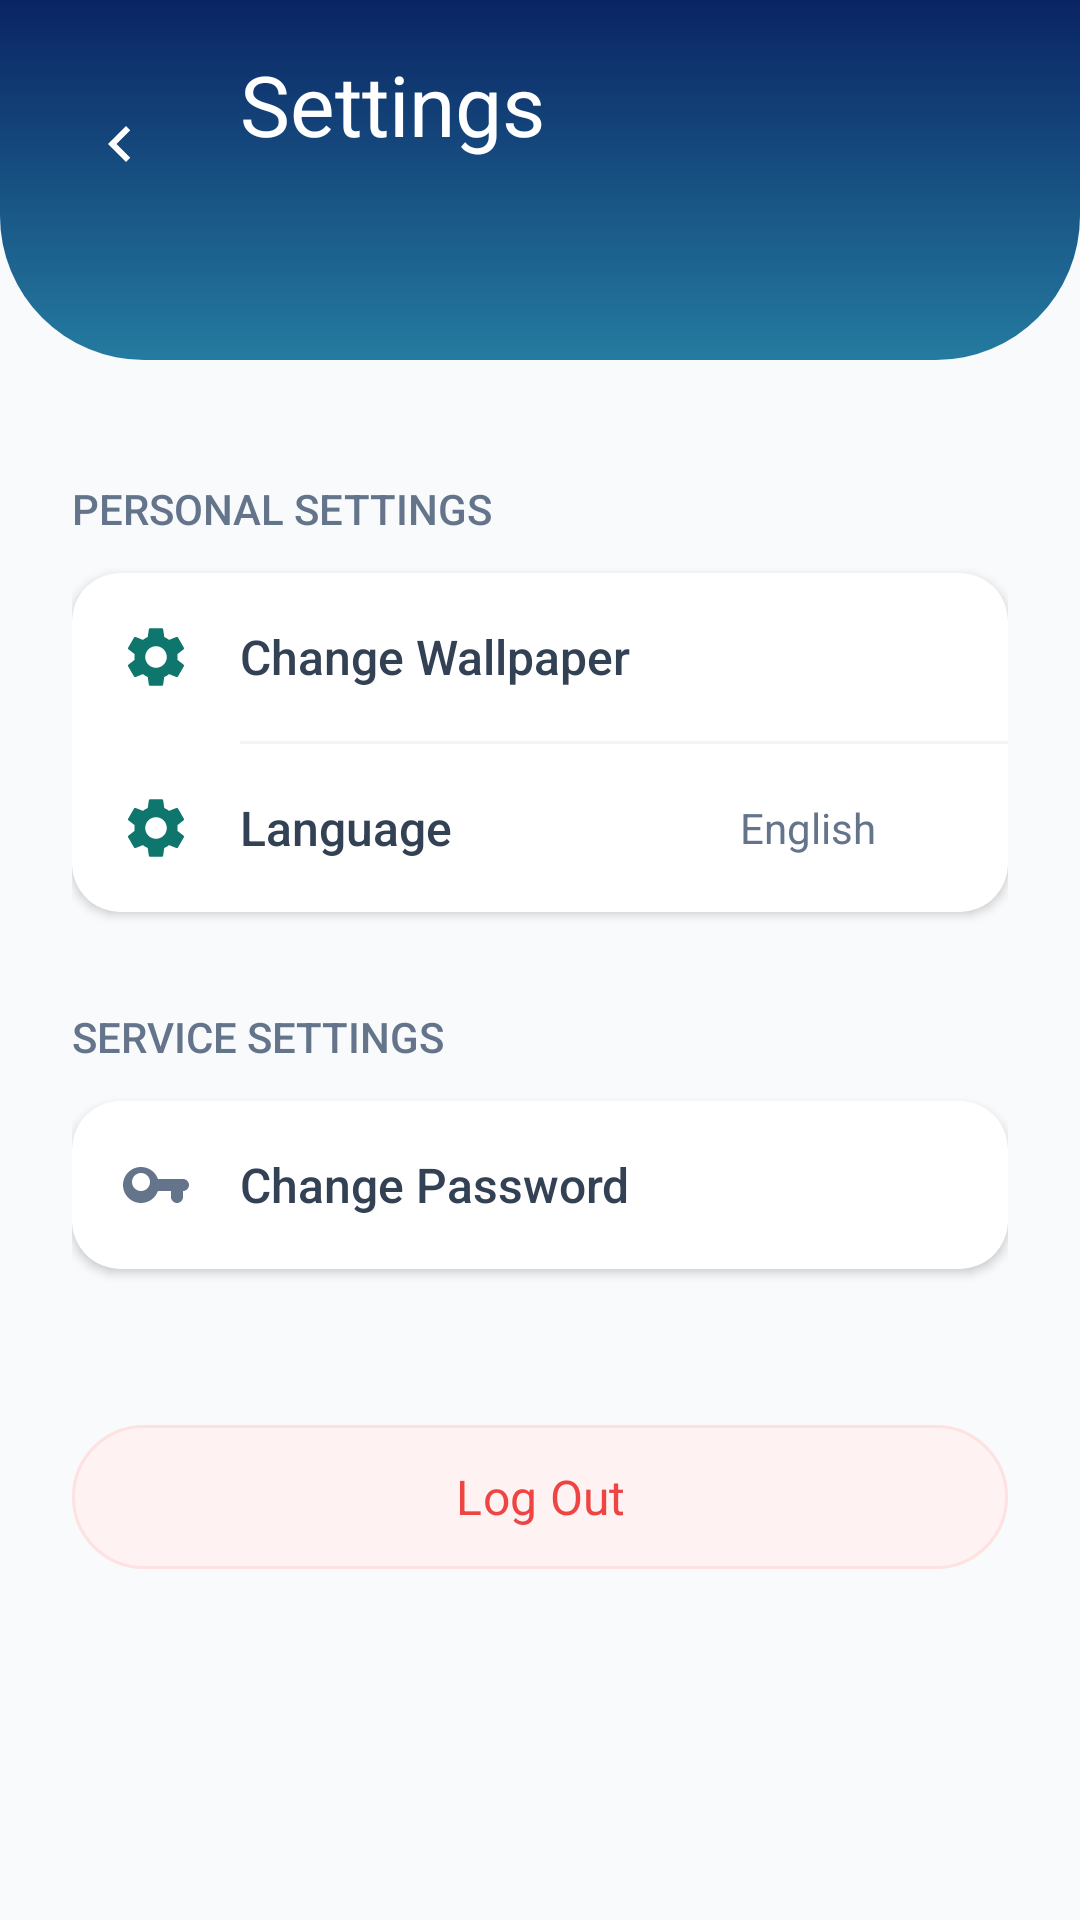

Screen size 1080×1920. Icon name, then its box in pixels as (x1, y1, x2, y2):
key: (123, 1167, 189, 1203)
